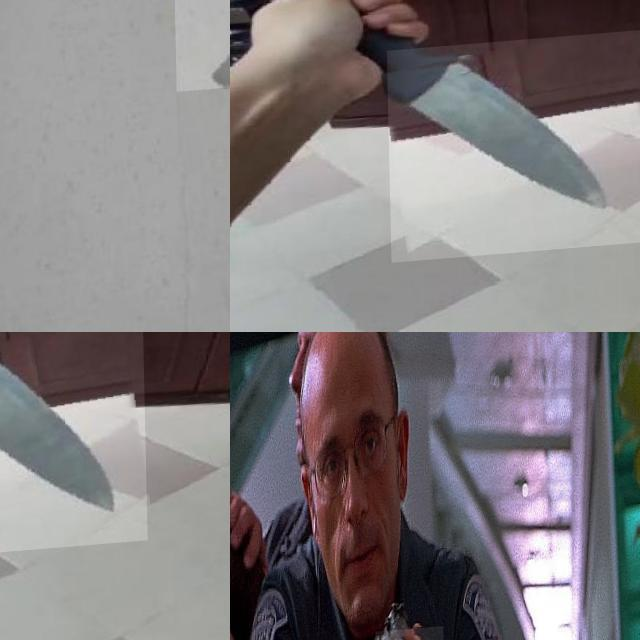-: (385, 37, 640, 266), (0, 332, 145, 563)
